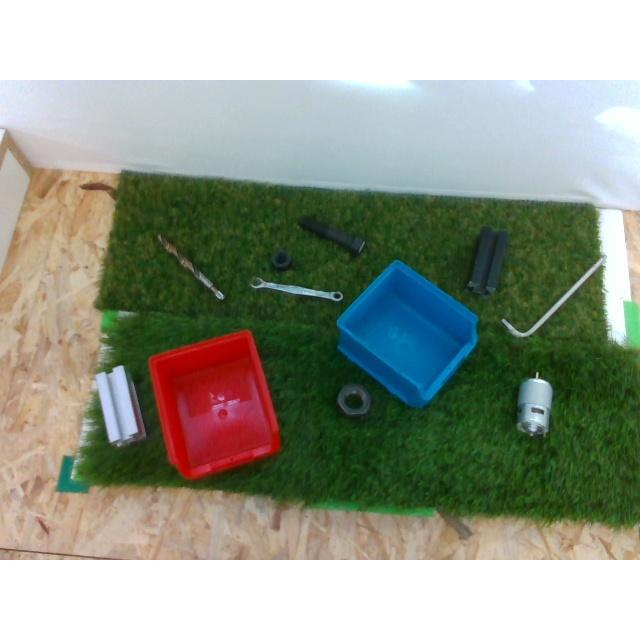AllenKey: (500, 252, 604, 336)
Drill: (156, 233, 224, 299)
F20_20_B: (297, 215, 365, 252)
M20: (270, 250, 292, 270)
M30: (336, 383, 372, 415)
Motor2: (516, 372, 552, 436)
S40_40_B: (468, 226, 504, 292)
S40_40_G: (95, 366, 145, 446)
Wrench: (250, 278, 342, 302)
container_box_blue: (337, 260, 477, 408)
container_box_red: (147, 331, 281, 482)
